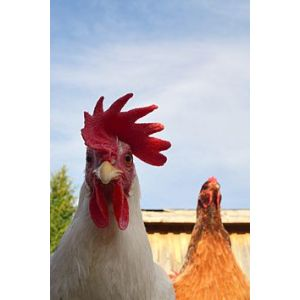hen: (49, 89, 176, 298), (171, 173, 248, 298)
